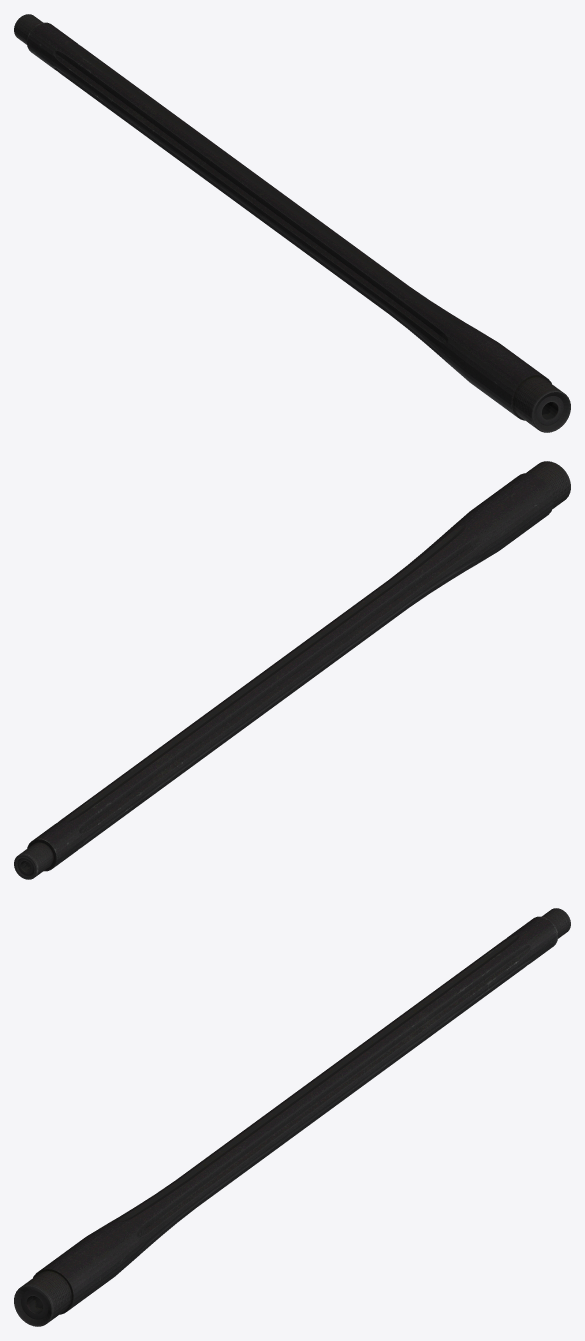
3 renders of one model, top to bottom at view 1: azimuth 30°, elevation 25°; view 2: azimuth 150°, elevation 25°; view 3: azimuth 330°, elevation 25°, orthographic.
Parts seen in each view (by area): view 1: TW_5df256570dee1b22f862e9c4_PZ_Import; view 2: TW_5df256570dee1b22f862e9c4_PZ_Import; view 3: TW_5df256570dee1b22f862e9c4_PZ_Import.
Boxes of the visible parts, left/top/right/bottom form: TW_5df256570dee1b22f862e9c4_PZ_Import: left=14, top=14, right=570, bottom=432; TW_5df256570dee1b22f862e9c4_PZ_Import: left=14, top=461, right=570, bottom=879; TW_5df256570dee1b22f862e9c4_PZ_Import: left=14, top=908, right=570, bottom=1326.
Size of the model in its own units: 0.0178 by 0.3812 by 0.0179.
1 material, 1 textured.
